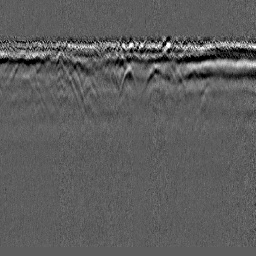cavity: (118, 63, 138, 98)
